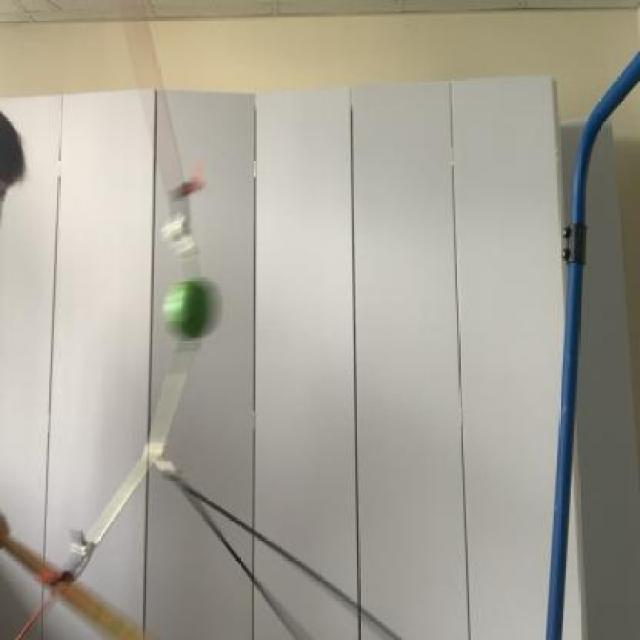baseball: (162, 267, 222, 342)
